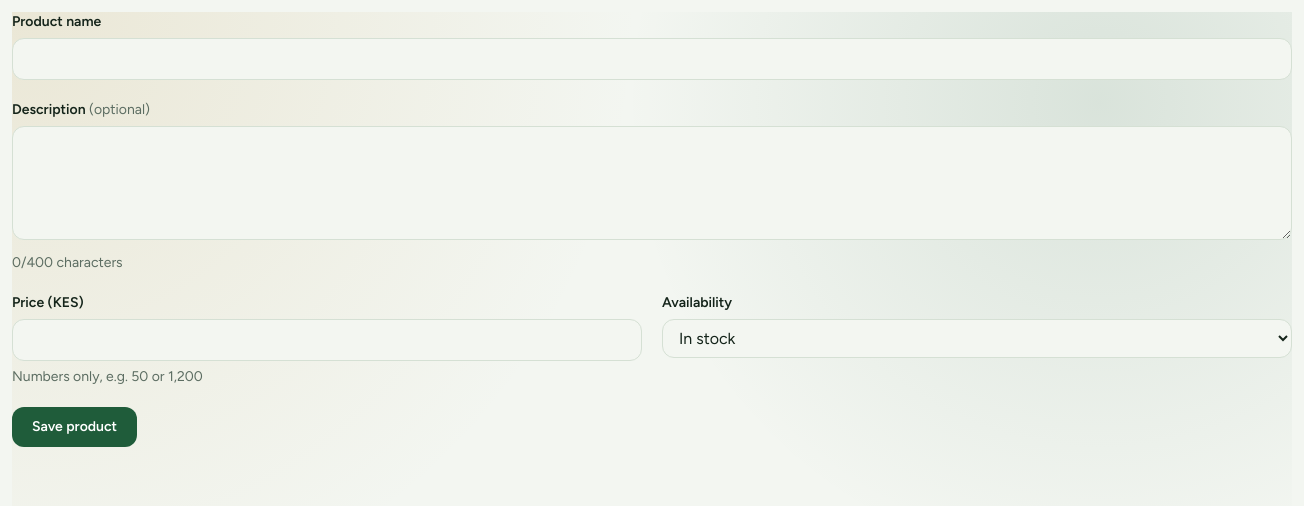
ProductForm › shows a storage error when saving fails
Type "Honey" into the field labelled "Product name" at (652, 59), box [12, 38, 1292, 80]
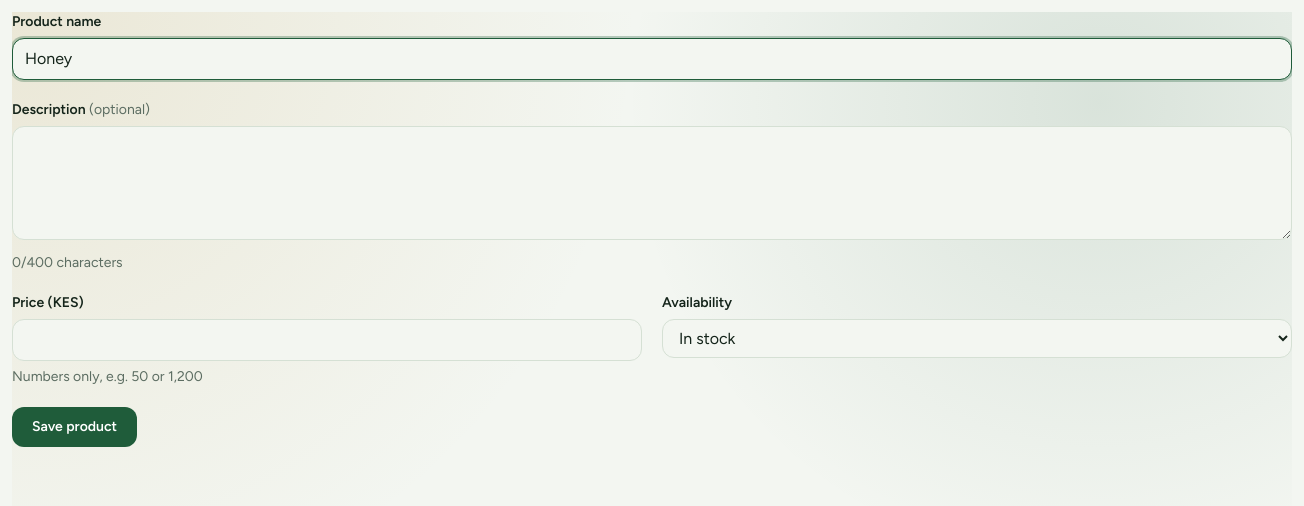
Type "800" into the field labelled "Price (KES)" at (327, 340), box [12, 319, 642, 361]
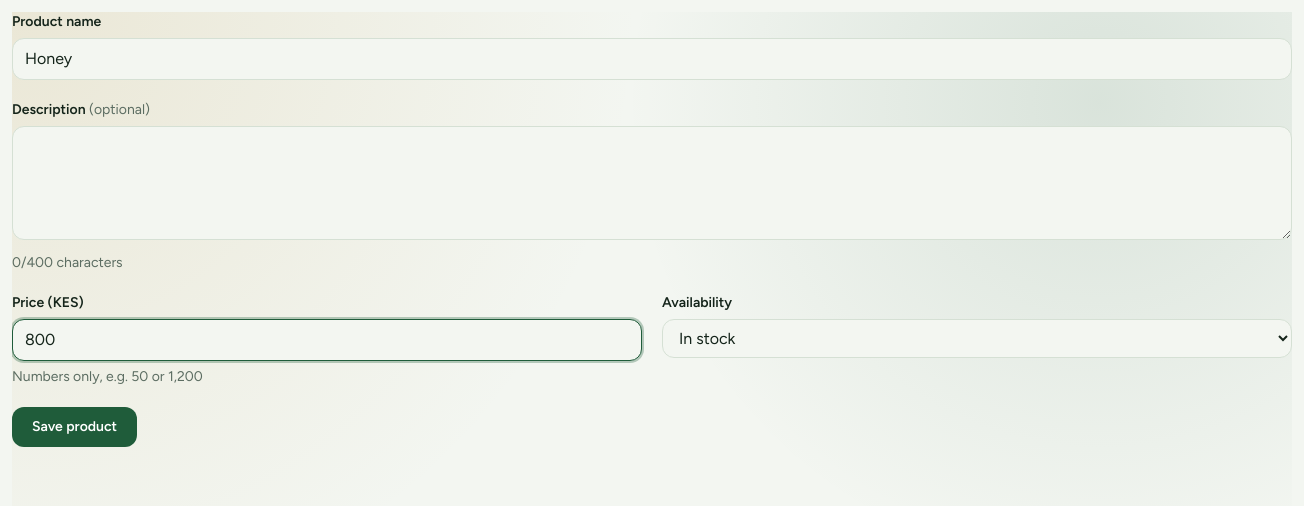
Click the button "Save product" at (75, 427), box [12, 407, 137, 447]
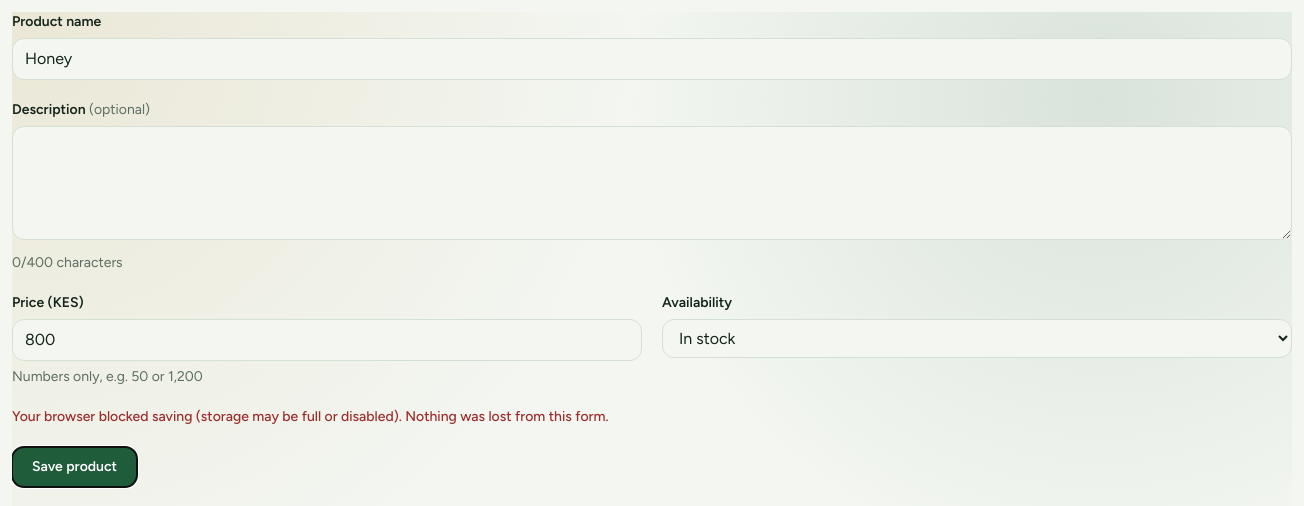
Check: the message shows "blocked saving", box [12, 408, 608, 425]
